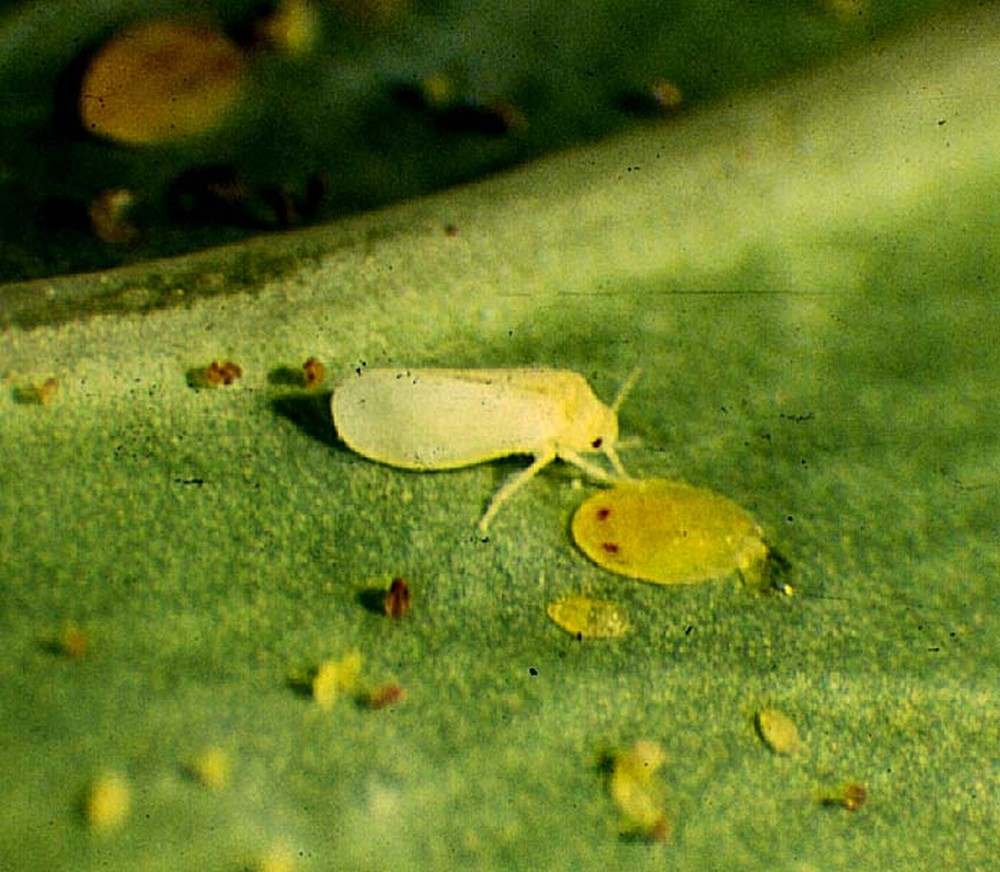Mosca Blanca: (308, 327, 664, 528)
